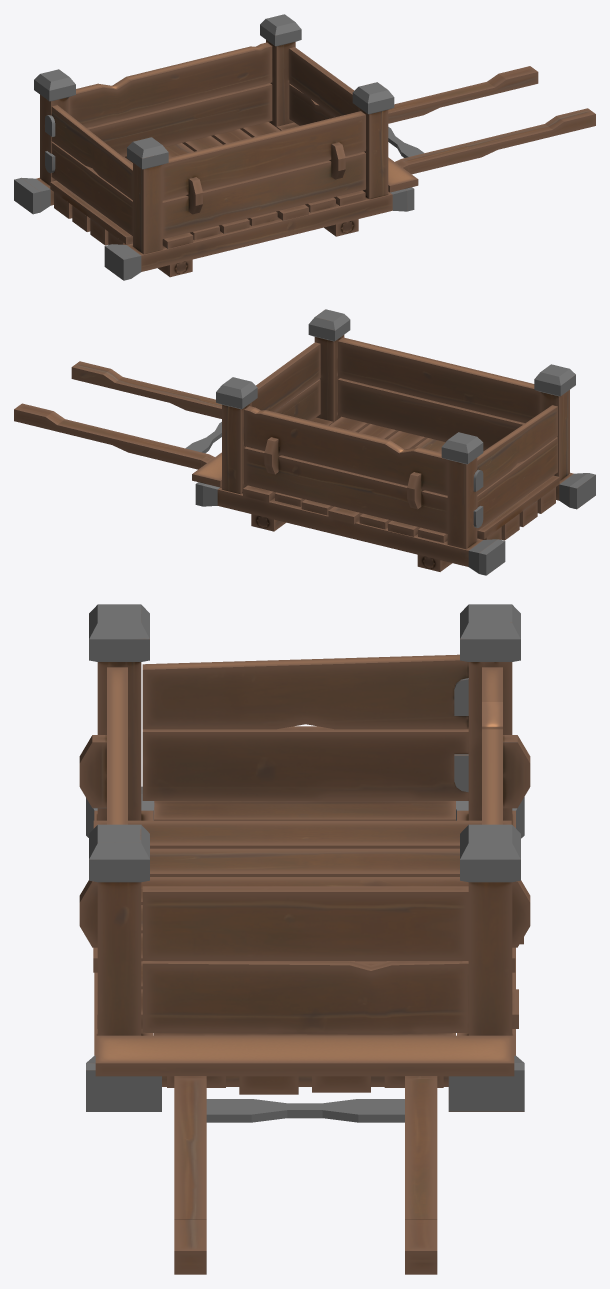
The model's file is Cart.fbx.
3 renders of one model, top to bottom at view 1: azimuth 30°, elevation 25°; view 2: azimuth 150°, elevation 25°; view 3: azimuth 270°, elevation 25°, orthographic. The views are drawn at different scales.
Visible parts, largest first — view 1: Cube.007; view 2: Cube.007; view 3: Cube.007.
Boxes of the visible parts, x1,y1,x2,y2 form: Cube.007: (14, 14, 595, 280); Cube.007: (14, 309, 595, 575); Cube.007: (79, 604, 530, 1274).
Size of the model in its own units: 467 by 122 by 184.
Materials: 1 (1 with a texture image).
